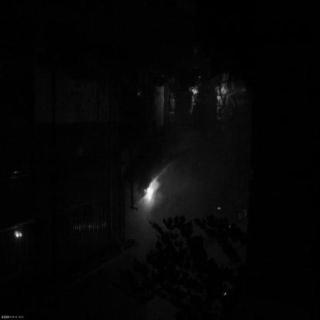other: (216, 85, 228, 113), (14, 228, 24, 240)
